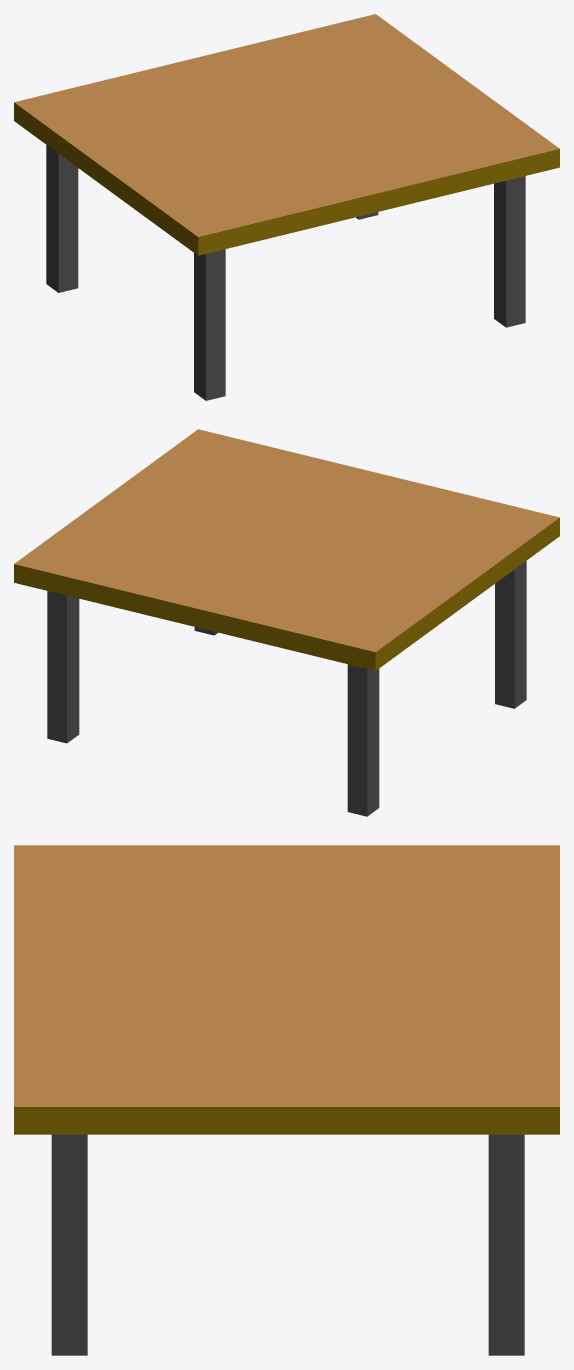
Rendered from table_rect.fbx.
The picture shows the model from 3 angles, top to bottom: view 1: azimuth 30°, elevation 25°; view 2: azimuth 150°, elevation 25°; view 3: azimuth 270°, elevation 25°; orthographic projection. The views are drawn at different scales.
Parts seen in each view (by area): view 1: mesh_RectTable; view 2: mesh_RectTable; view 3: mesh_RectTable.
Part boxes in pixels (x1=…): mesh_RectTable: x1=14, y1=14, x2=559, y2=400; mesh_RectTable: x1=14, y1=429, x2=559, y2=816; mesh_RectTable: x1=14, y1=845, x2=559, y2=1355.
Bounding box in the file's own units: 170 × 80 × 150.
